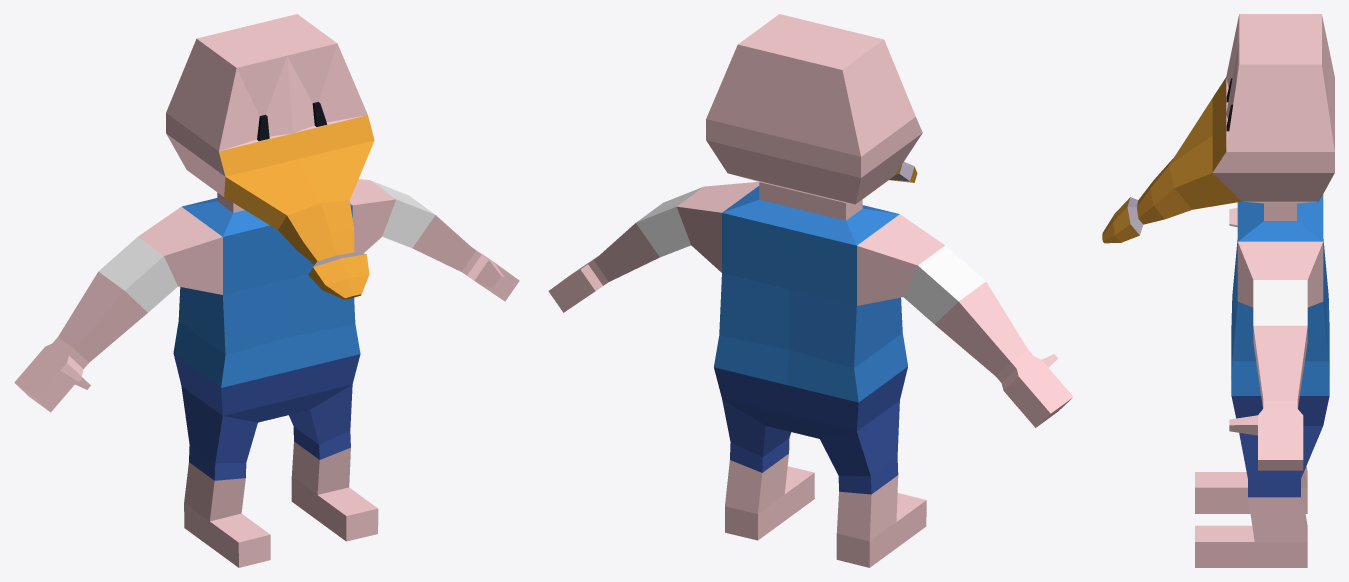
File: peluche blender.fbx
The picture shows the model from 3 angles, left to right: view 1: azimuth 30°, elevation 25°; view 2: azimuth 150°, elevation 25°; view 3: azimuth 270°, elevation 25°; orthographic projection. The views are drawn at different scales.
Visible parts, largest first — view 1: Cube; view 2: Cube; view 3: Cube.
Boxes of the visible parts, left/top/right/bottom form: Cube: left=14, top=14, right=519, bottom=567; Cube: left=548, top=14, right=1073, bottom=567; Cube: left=1102, top=14, right=1334, bottom=567.
Size of the model in its own units: 480 by 455 by 194.
